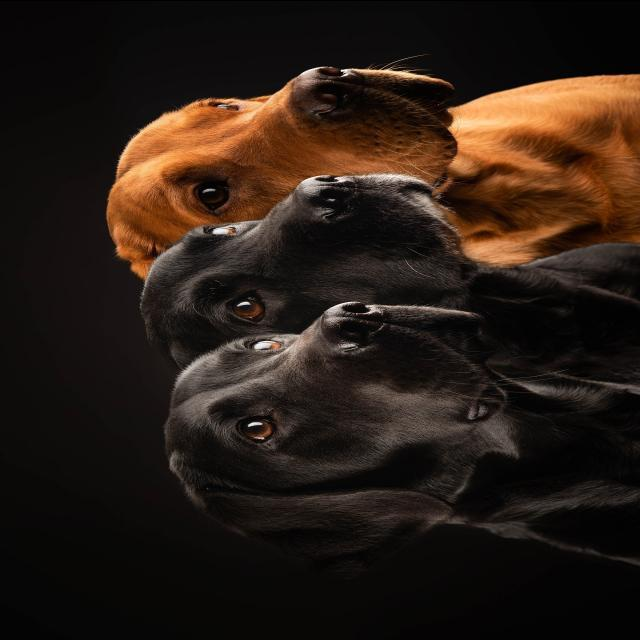Dogs: (103, 50, 640, 304), (157, 301, 637, 581), (133, 170, 640, 417)
